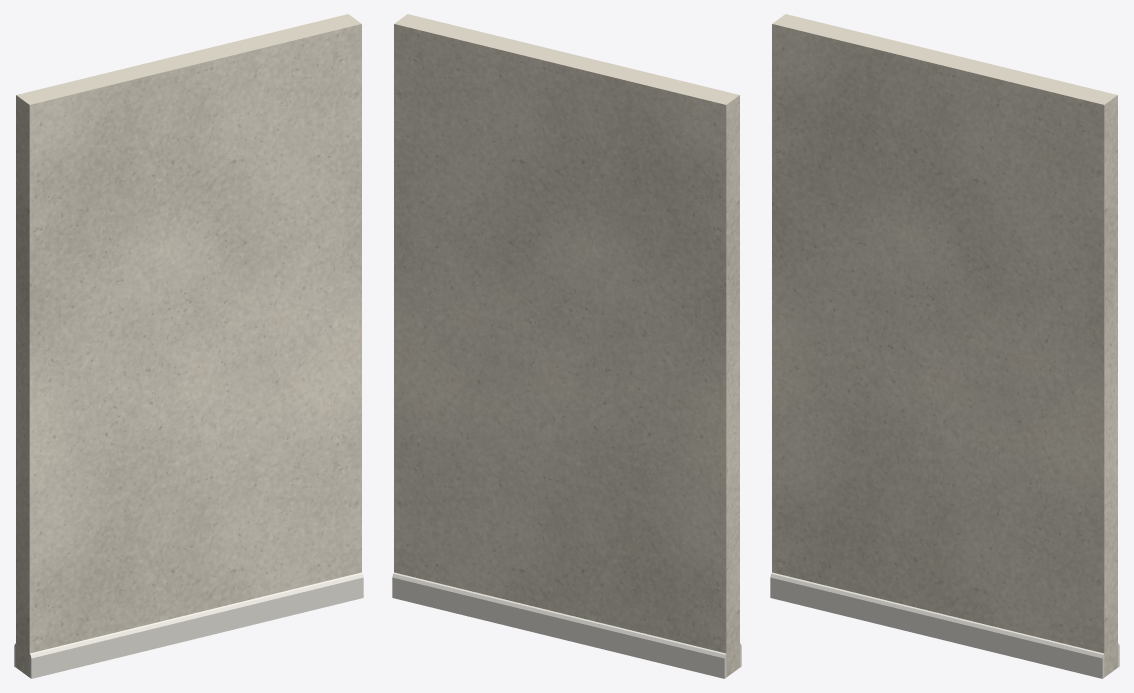
File: interior_wall_end.glb
The picture shows the model from 3 angles, left to right: view 1: azimuth 30°, elevation 25°; view 2: azimuth 150°, elevation 25°; view 3: azimuth 330°, elevation 25°; orthographic projection.
Visible parts, largest first — view 1: interior_wall_end_plaster, interior_wall_end_trim; view 2: interior_wall_end_plaster, interior_wall_end_trim; view 3: interior_wall_end_plaster, interior_wall_end_trim.
Part boxes in pixels (<box>): interior_wall_end_plaster: <box>16,14,361,677</box>; interior_wall_end_trim: <box>14,572,363,678</box>; interior_wall_end_plaster: <box>394,14,739,677</box>; interior_wall_end_trim: <box>392,572,741,678</box>; interior_wall_end_plaster: <box>772,14,1117,677</box>; interior_wall_end_trim: <box>770,572,1119,678</box>.
Size of the model in its own units: 1.7 by 2.8 by 0.152.
2 materials, 1 textured.
